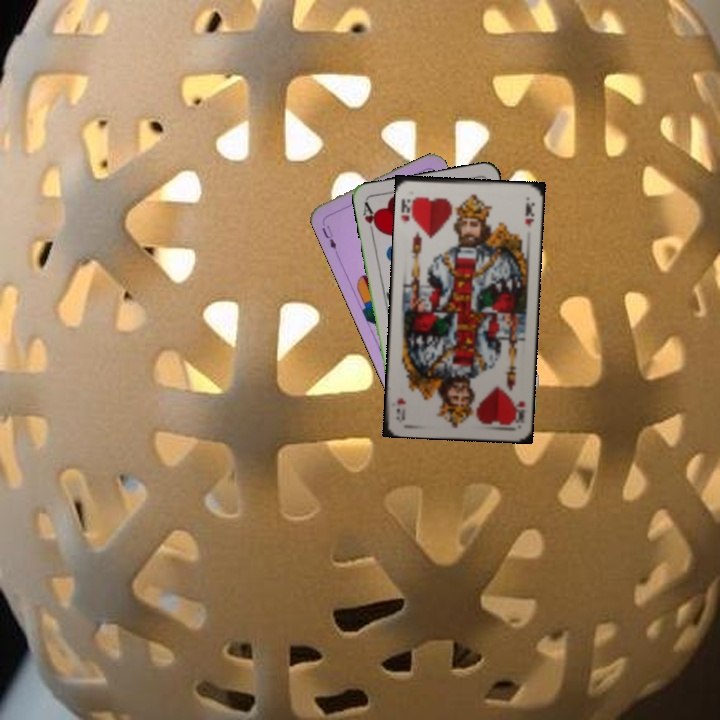EU: (318, 216, 340, 255)
HA: (358, 198, 381, 238)
HK: (397, 193, 418, 224), (508, 397, 528, 426)
